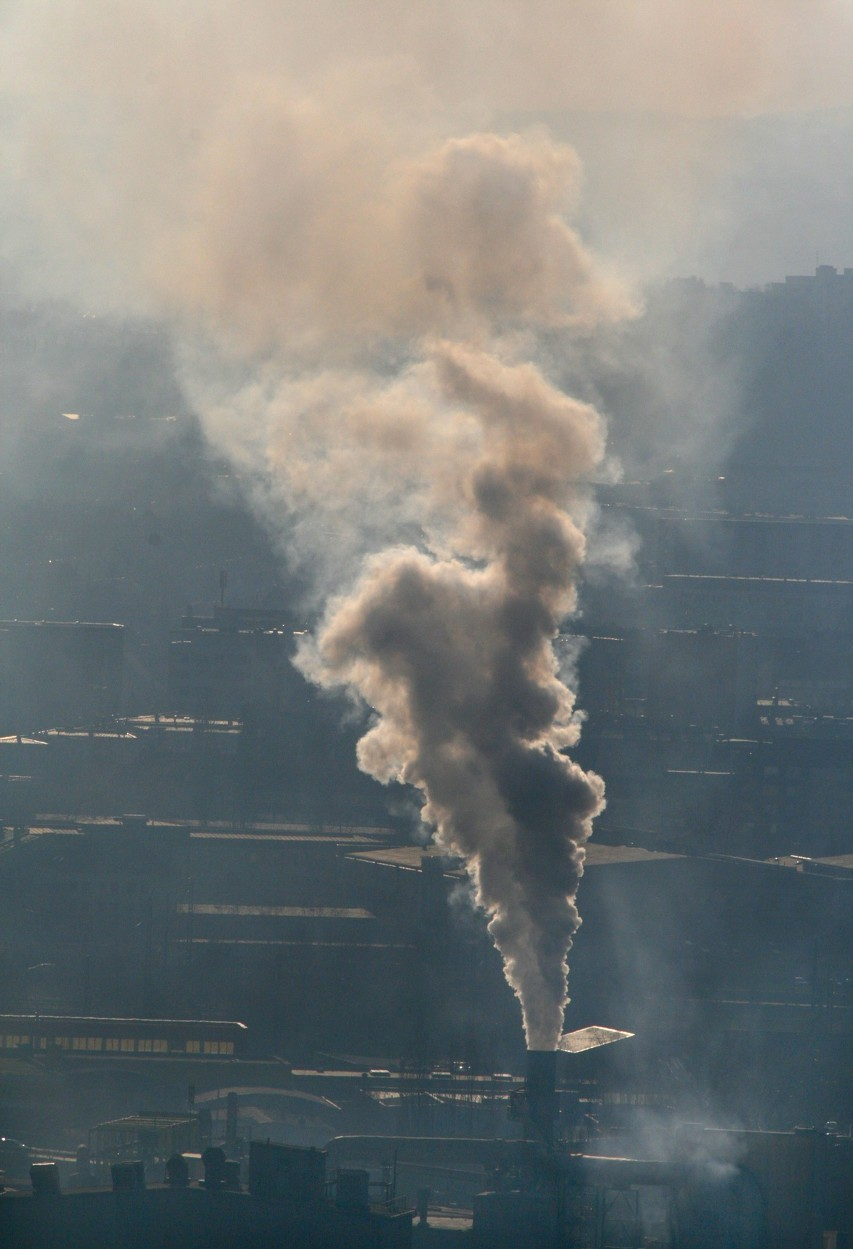工厂排烟: (0, 0, 853, 1055), (580, 770, 775, 1223)
